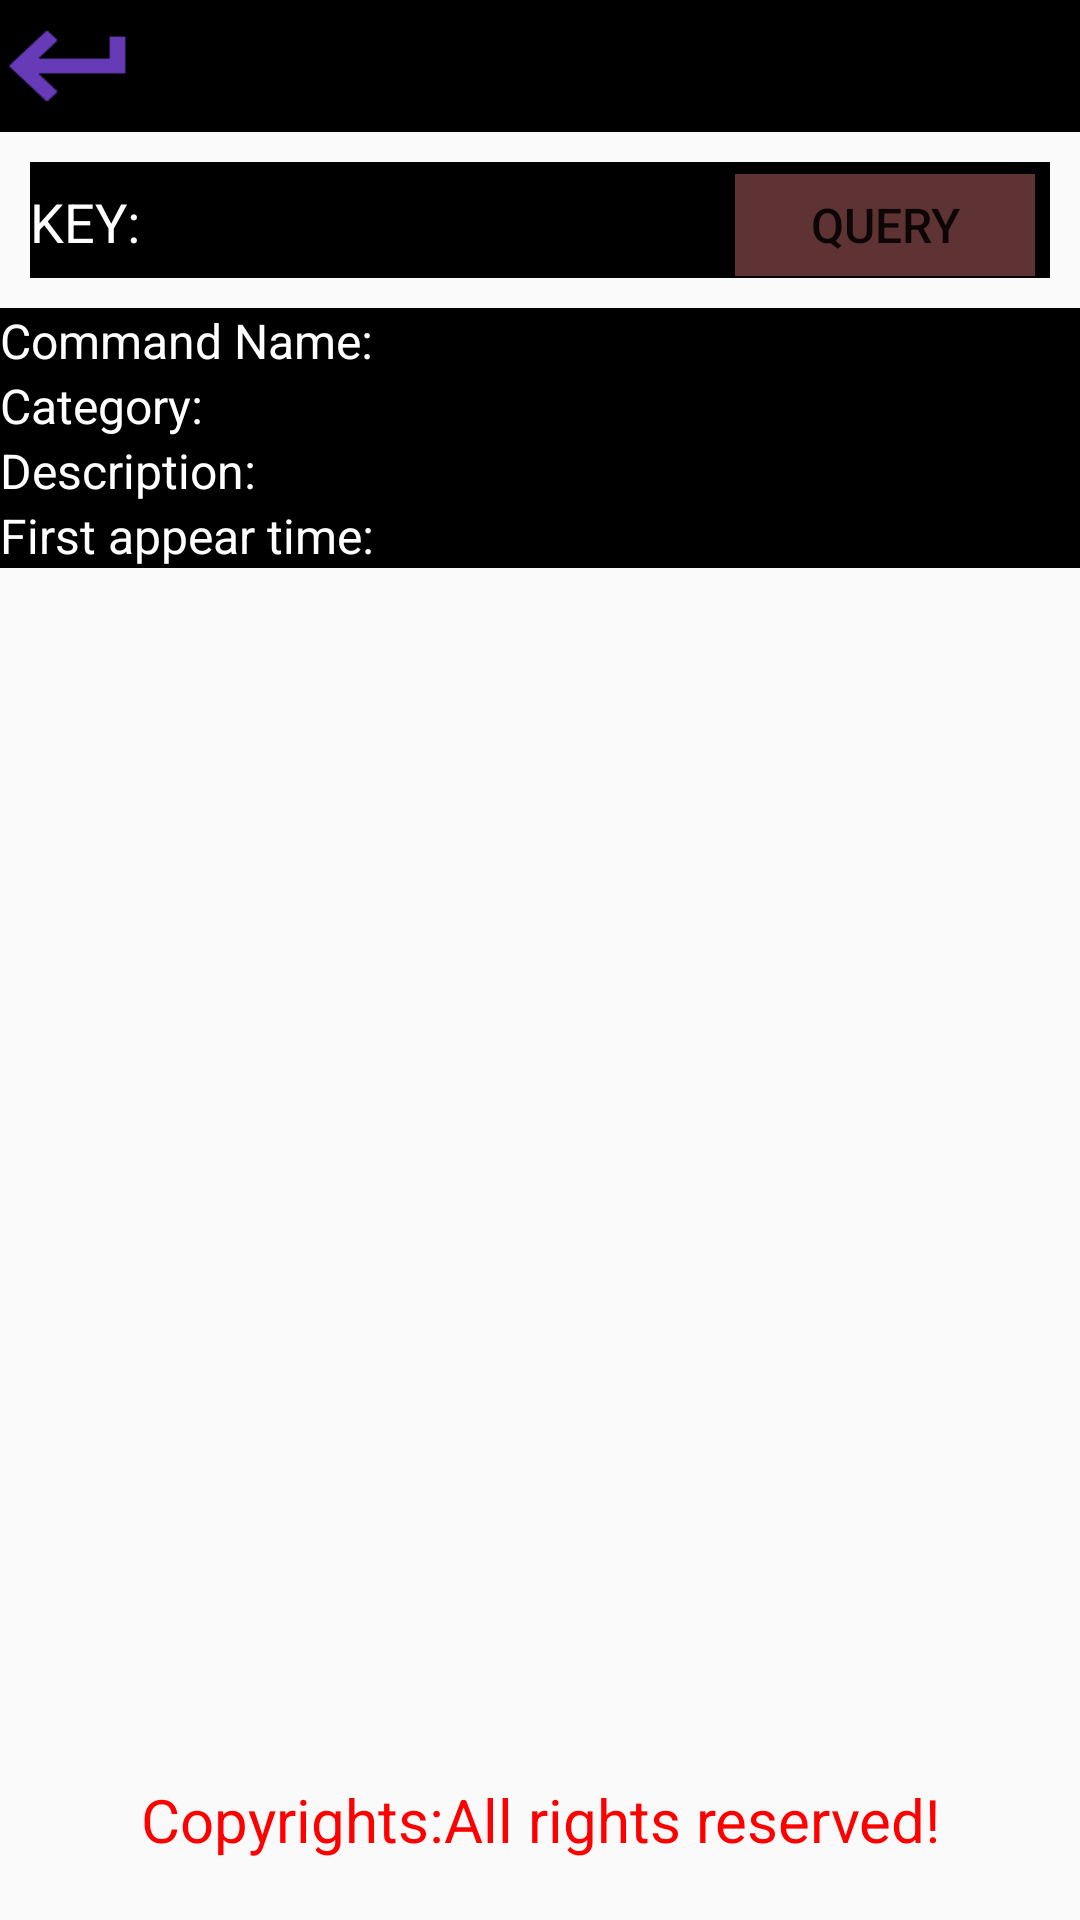

Where icons sit on this 1080x1920 app screen, as bbox=[x1, y1, x2, y2]:
return button: bbox=[9, 30, 126, 102]
